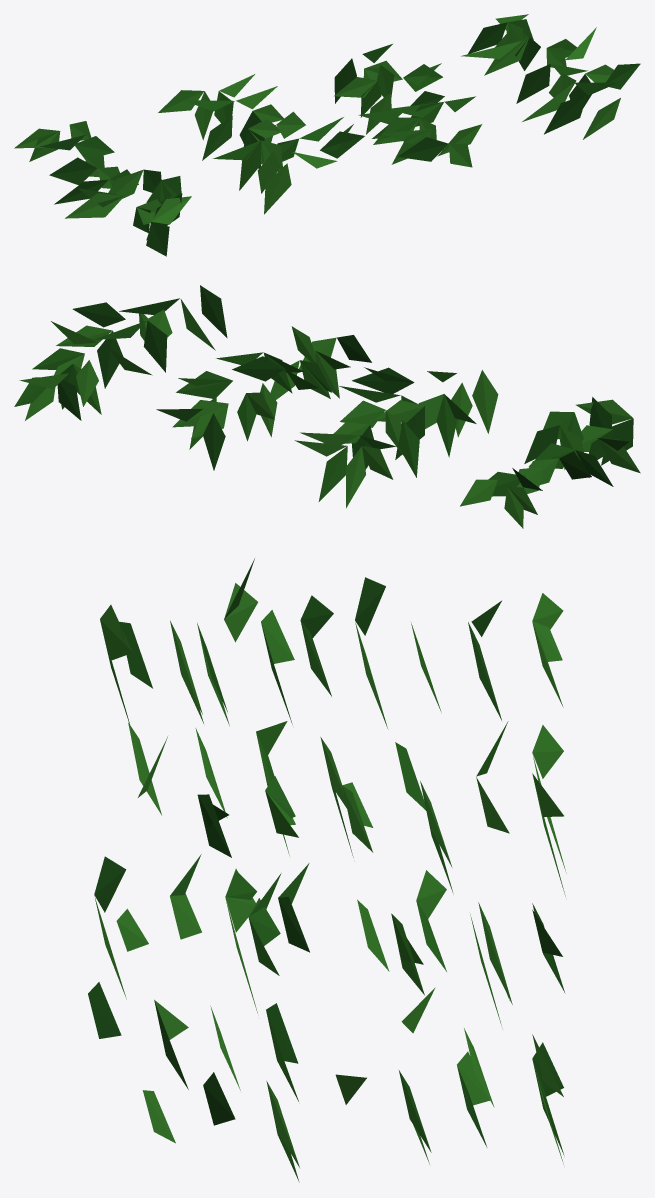
3 renders of one model, top to bottom at view 1: azimuth 30°, elevation 25°; view 2: azimuth 150°, elevation 25°; view 3: azimuth 270°, elevation 25°, orthographic. The views are drawn at different scales.
Parts seen in each view (by area): view 1: r21c0_l01; view 2: r21c0_l01; view 3: r21c0_l01.
Part boxes in pixels (box(x1,y1,x2,y2)): r21c0_l01: box(14, 14, 640, 256); r21c0_l01: box(14, 285, 640, 528); r21c0_l01: box(88, 558, 566, 1182).
Size of the model in its own units: 1.8 by 0.2257 by 0.6554.
